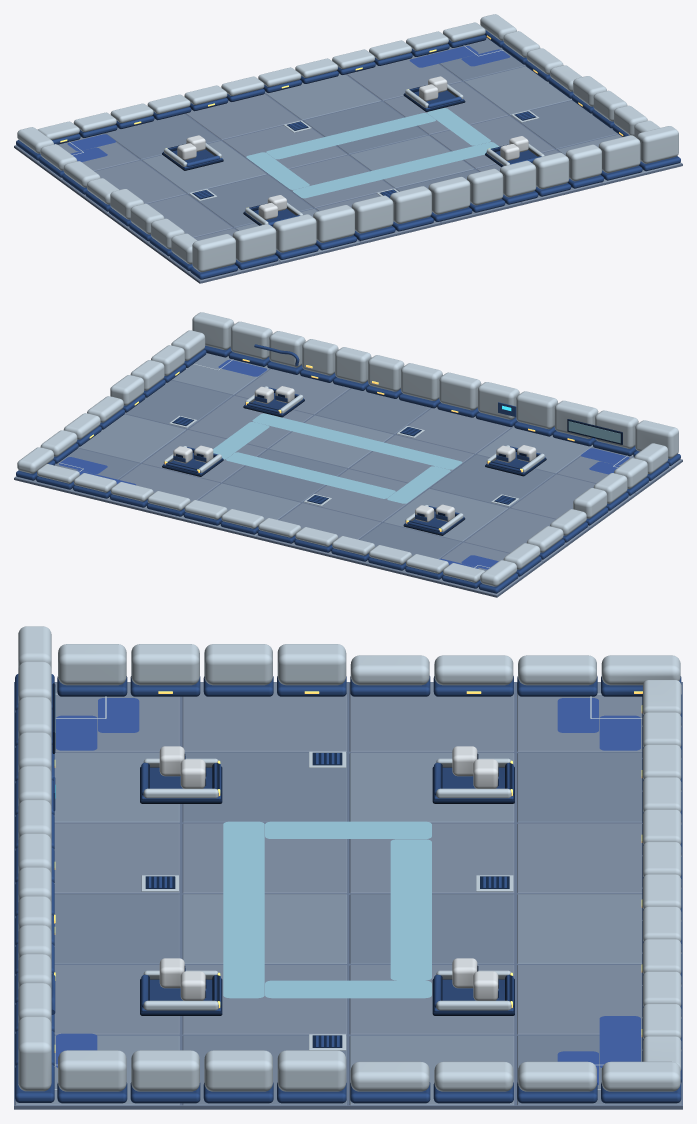
File: CryoSoftRoom_cryo-boss.fbx
3 renders of one model, top to bottom at view 1: azimuth 30°, elevation 25°; view 2: azimuth 150°, elevation 25°; view 3: azimuth 270°, elevation 25°, orthographic. The views are drawn at different scales.
Visible parts, largest first — view 1: SC_wall_Soft_Ivory, SC_floor_Soft_Floor, SC_floor_Soft_FloorShade, SC_floor_Soft_FloorLight, SC_wall_Soft_Blue, SC_marking_Soft_Ice, SC_floor_Soft_Seam, SC_marking_Soft_Dock, SC_obstacle_Soft_White, SC_obstacle_Soft_Blue, SC_obstacle_Soft_Ivory, SC_obstacle_Soft_Navy (+1 smaller); view 2: SC_wall_Soft_Ivory, SC_floor_Soft_Floor, SC_floor_Soft_FloorShade, SC_floor_Soft_FloorLight, SC_wall_Soft_Blue, SC_marking_Soft_Ice, SC_floor_Soft_Seam, SC_marking_Soft_Dock, SC_obstacle_Soft_Blue, SC_obstacle_Soft_White, SC_obstacle_Soft_Navy, SC_obstacle_Soft_Ivory (+3 smaller); view 3: SC_floor_Soft_Floor, SC_wall_Soft_Ivory, SC_floor_Soft_FloorShade, SC_floor_Soft_FloorLight, SC_wall_Soft_Blue, SC_marking_Soft_Ice, SC_floor_Soft_Seam, SC_marking_Soft_Dock, SC_obstacle_Soft_White, SC_obstacle_Soft_Blue, SC_obstacle_Soft_Ivory, SC_obstacle_Soft_Navy (+3 smaller).
Part boxes in pixels (left/top/right/bottom): SC_wall_Soft_Ivory: left=17, top=14, right=678, bottom=272; SC_floor_Soft_Floor: left=15, top=55, right=600, bottom=281; SC_floor_Soft_FloorShade: left=105, top=38, right=617, bottom=227; SC_floor_Soft_FloorLight: left=142, top=66, right=681, bottom=261; SC_wall_Soft_Blue: left=16, top=30, right=680, bottom=279; SC_marking_Soft_Ice: left=246, top=108, right=499, bottom=198; SC_floor_Soft_Seam: left=14, top=54, right=682, bottom=283; SC_marking_Soft_Dock: left=67, top=46, right=510, bottom=161; SC_obstacle_Soft_White: left=177, top=76, right=528, bottom=219; SC_obstacle_Soft_Blue: left=163, top=85, right=541, bottom=226; SC_obstacle_Soft_Ivory: left=163, top=84, right=544, bottom=224; SC_obstacle_Soft_Navy: left=162, top=93, right=502, bottom=226; SC_wall_Soft_Ivory: left=17, top=312, right=678, bottom=586; SC_floor_Soft_Floor: left=96, top=369, right=681, bottom=595; SC_floor_Soft_FloorShade: left=15, top=380, right=554, bottom=575; SC_floor_Soft_FloorLight: left=78, top=353, right=592, bottom=541; SC_wall_Soft_Blue: left=16, top=344, right=680, bottom=593; SC_marking_Soft_Ice: left=213, top=413, right=462, bottom=503; SC_floor_Soft_Seam: left=14, top=368, right=682, bottom=597; SC_marking_Soft_Dock: left=59, top=359, right=629, bottom=569; SC_obstacle_Soft_Blue: left=163, top=387, right=545, bottom=533; SC_obstacle_Soft_White: left=173, top=386, right=536, bottom=522; SC_obstacle_Soft_Navy: left=162, top=394, right=546, bottom=535; SC_obstacle_Soft_Ivory: left=163, top=386, right=544, bottom=531; SC_floor_Soft_Floor: left=54, top=682, right=681, bottom=1034; SC_wall_Soft_Ivory: left=18, top=626, right=681, bottom=1091; SC_floor_Soft_FloorShade: left=54, top=752, right=681, bottom=1105; SC_floor_Soft_FloorLight: left=15, top=752, right=642, bottom=1105; SC_wall_Soft_Blue: left=15, top=674, right=681, bottom=1103; SC_marking_Soft_Ice: left=223, top=821, right=431, bottom=998; SC_floor_Soft_Seam: left=14, top=682, right=682, bottom=1109; SC_marking_Soft_Dock: left=56, top=698, right=640, bottom=1084; SC_obstacle_Soft_White: left=159, top=746, right=498, bottom=1000; SC_obstacle_Soft_Blue: left=141, top=756, right=513, bottom=1011; SC_obstacle_Soft_Ivory: left=143, top=758, right=511, bottom=1010; SC_obstacle_Soft_Navy: left=140, top=753, right=514, bottom=1015.
Bounding box in the file's own units: 4800 × 334 × 3200.
